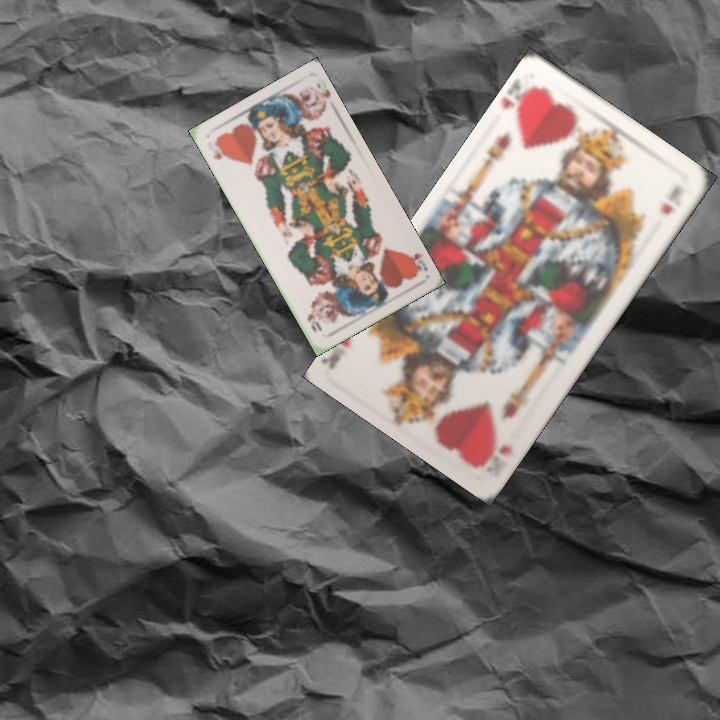HK: (498, 76, 542, 122), (476, 432, 516, 479)
HO: (400, 247, 431, 278), (203, 134, 231, 163)
